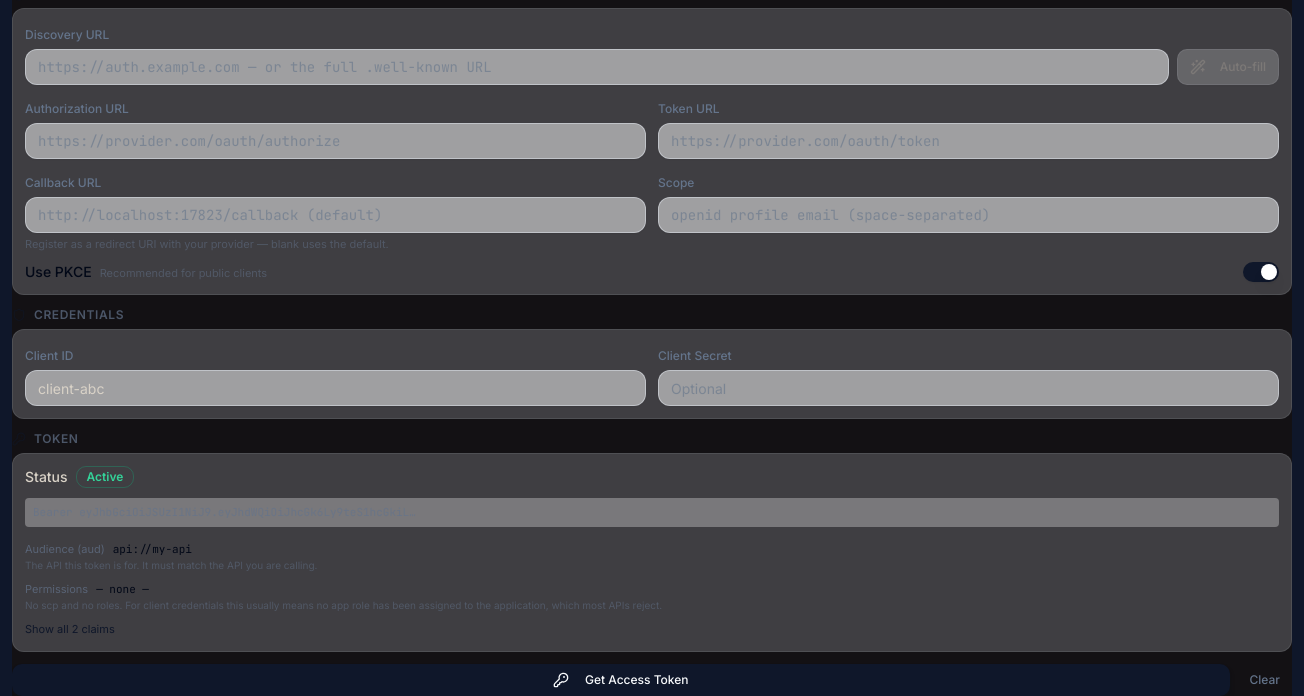
OAuthConfigurator token claims › toggles the full claim set
(page scrolled)
Expected: the text "\"tid\"" is not shown
Click the button with test id "toggle-all-claims": (70, 629) [25,621,115,638]
(page scrolled)
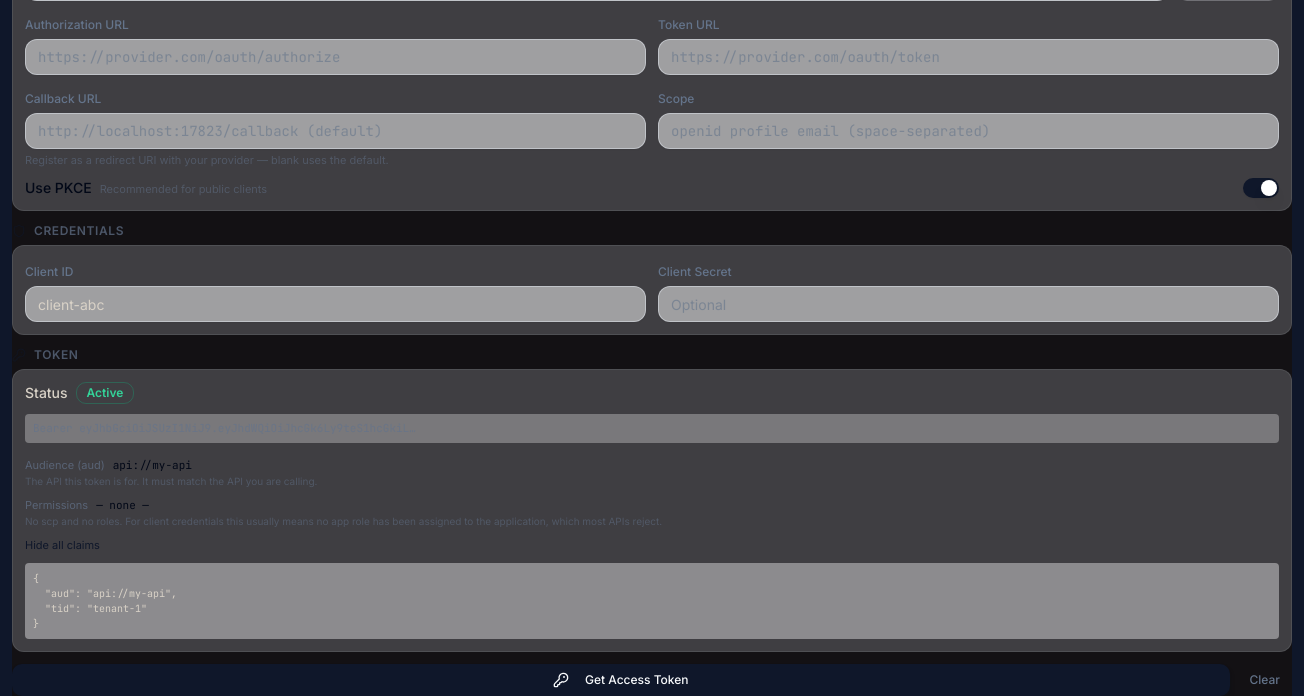
Expected: the text "{ \"aud\": \"api://my-api\", \"tid\": \"tenant-1\" }" is shown, [25,563,1279,639]
